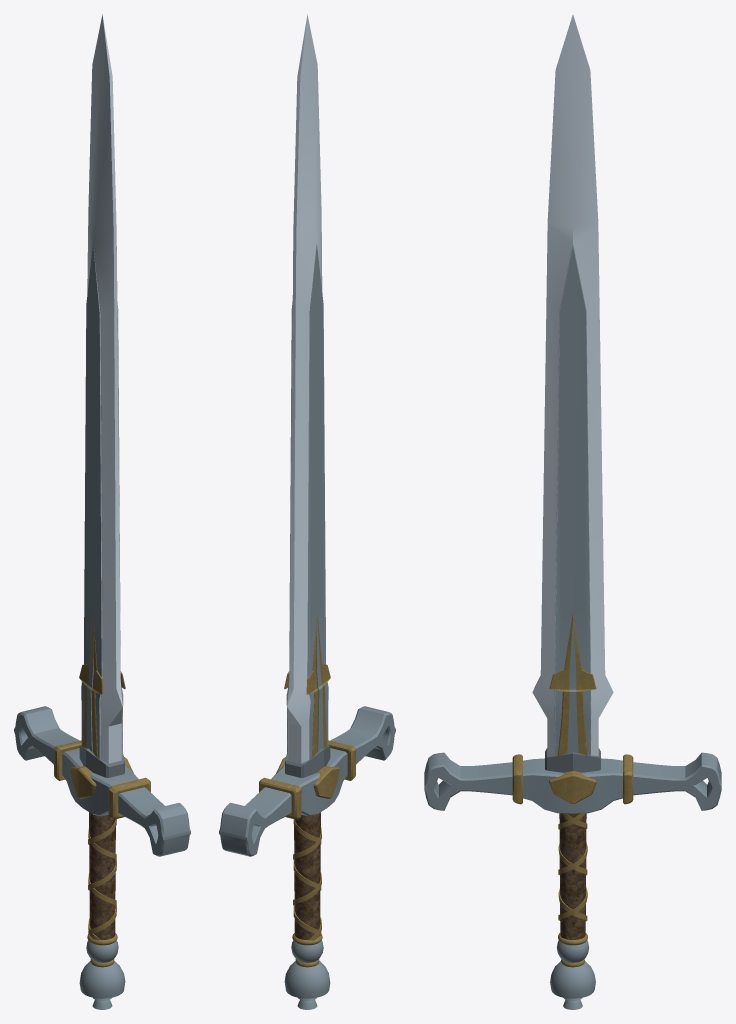
The model's file is steel_sword.fbx.
3 renders of one model, left to right at view 1: azimuth 30°, elevation 25°; view 2: azimuth 150°, elevation 25°; view 3: azimuth 270°, elevation 25°, orthographic.
Visible parts, largest first — view 1: Steel_sword; view 2: Steel_sword; view 3: Steel_sword.
Boxes of the visible parts, x1,y1,x2,y2 form: Steel_sword: (14,14,190,1009); Steel_sword: (219,14,395,1009); Steel_sword: (424,15,721,1009).
Size of the model in its own units: 5.19 by 102 by 27.87.
Materials: 1 (1 with a texture image).
